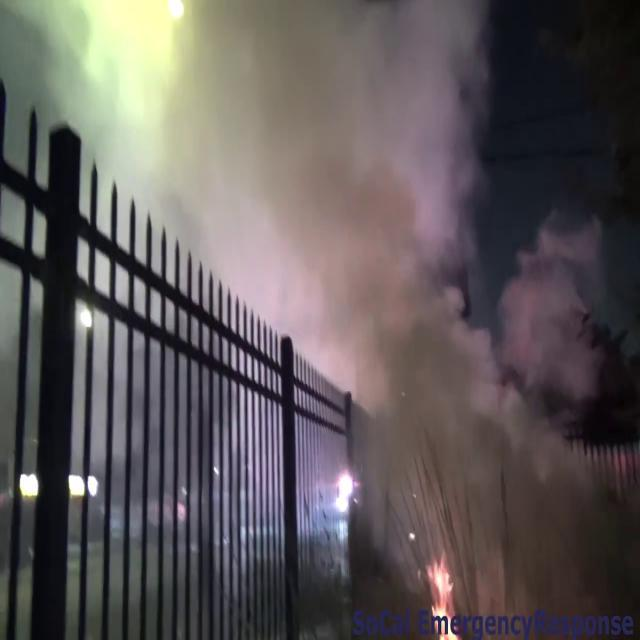Smoke: (167, 0, 490, 400), (339, 208, 637, 622)
